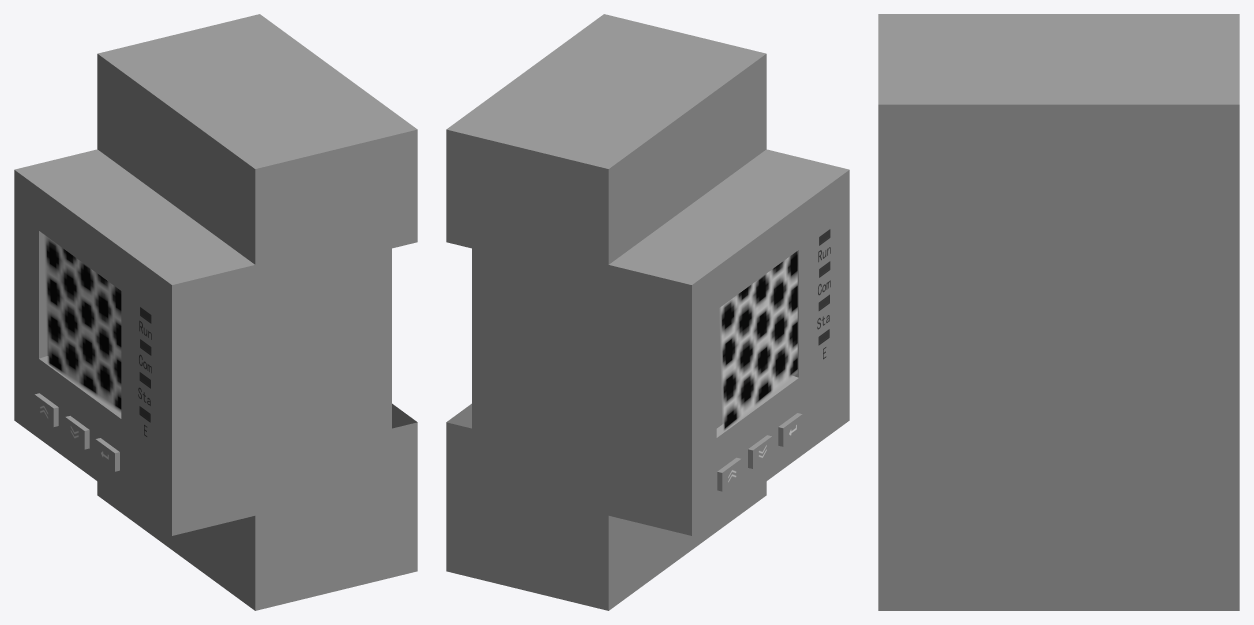
The model's file is EnergyMeter.glb.
The picture shows the model from 3 angles, left to right: view 1: azimuth 30°, elevation 25°; view 2: azimuth 150°, elevation 25°; view 3: azimuth 270°, elevation 25°; orthographic projection. The views are drawn at different scales.
Visible parts, largest first — view 1: EnergyMeter; view 2: EnergyMeter; view 3: EnergyMeter.
Boxes of the visible parts, x1,y1,x2,y2 form: EnergyMeter: (14,14,417,610); EnergyMeter: (446,14,849,610); EnergyMeter: (878,14,1239,610).
Bounding box in the file's own units: 0.0588 × 0.099 × 0.0641.
2 materials, 1 textured.
